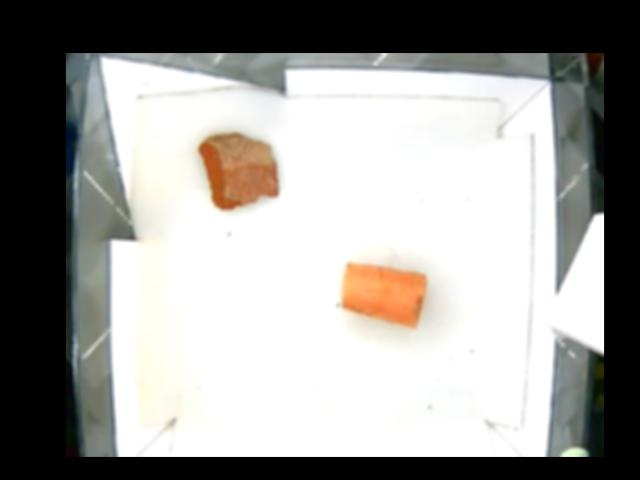Brisk: (197, 131, 278, 210)
Carrot: (340, 261, 425, 327)
